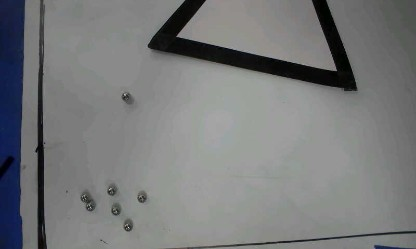ironball: (122, 218, 133, 231), (110, 203, 121, 216), (106, 185, 117, 196), (79, 192, 89, 203), (84, 201, 95, 211), (136, 193, 146, 203), (120, 91, 130, 101)
